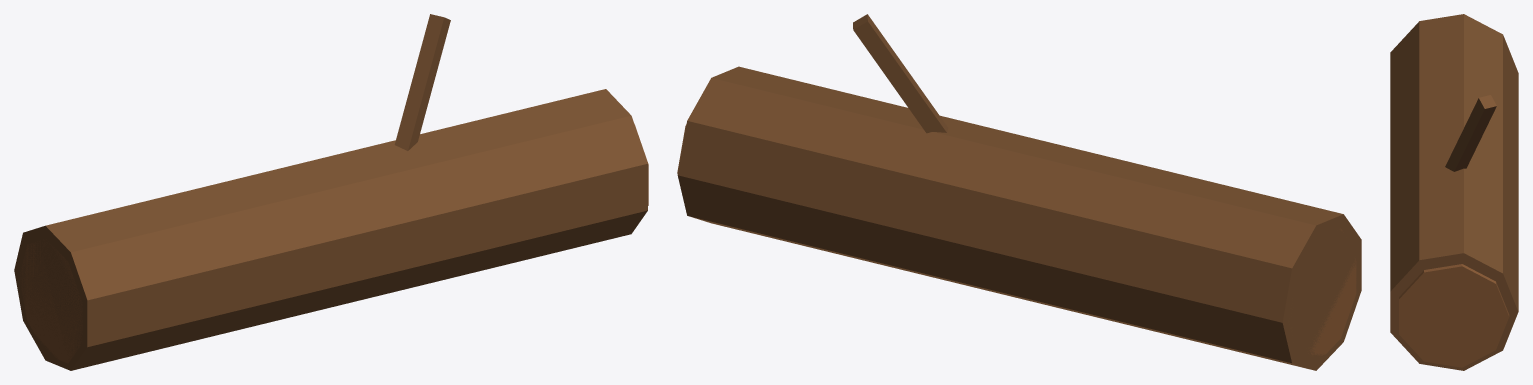
File: batang_kayu_v001.glb
3 renders of one model, left to right at view 1: azimuth 30°, elevation 25°; view 2: azimuth 150°, elevation 25°; view 3: azimuth 270°, elevation 25°, orthographic. The views are drawn at different scales.
Parts seen in each view (by area): view 1: Batang_Kayu; view 2: Batang_Kayu; view 3: Batang_Kayu.
Part boxes in pixels (x1,y1,x2,y2): Batang_Kayu: (14, 14, 648, 370); Batang_Kayu: (677, 14, 1361, 370); Batang_Kayu: (1390, 14, 1518, 370).
Size of the model in its own units: 2.42 by 0.9719 by 0.5431.
